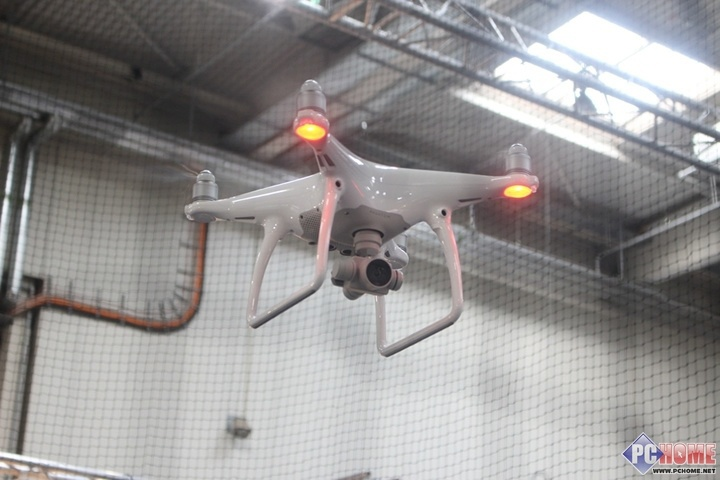DJI: (180, 79, 540, 364)
